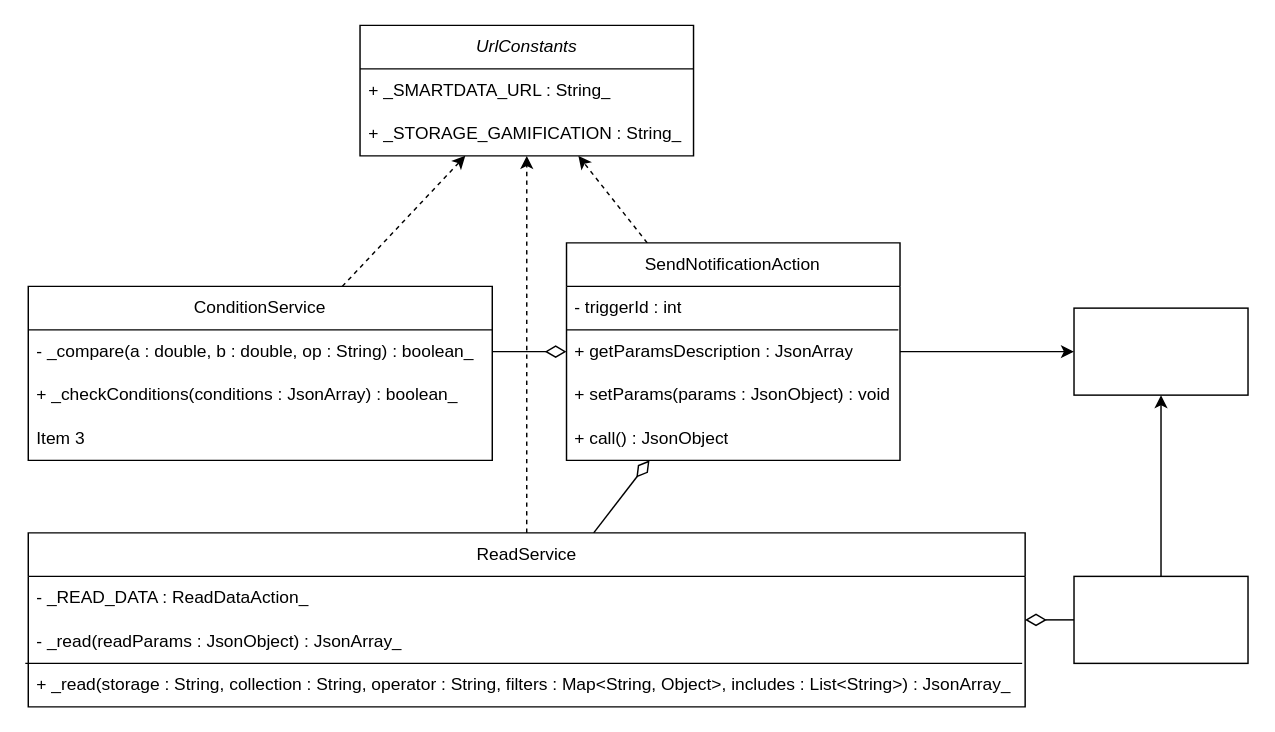
This 1275x732 diagram has some shape labels left out. The shapes that lost their labels are listed below. From the top down, each one's centre as x and y in pixels, then its label:
At (x=1160, y=351): "Action".
At (x=1160, y=619): "ReadDataAction".
